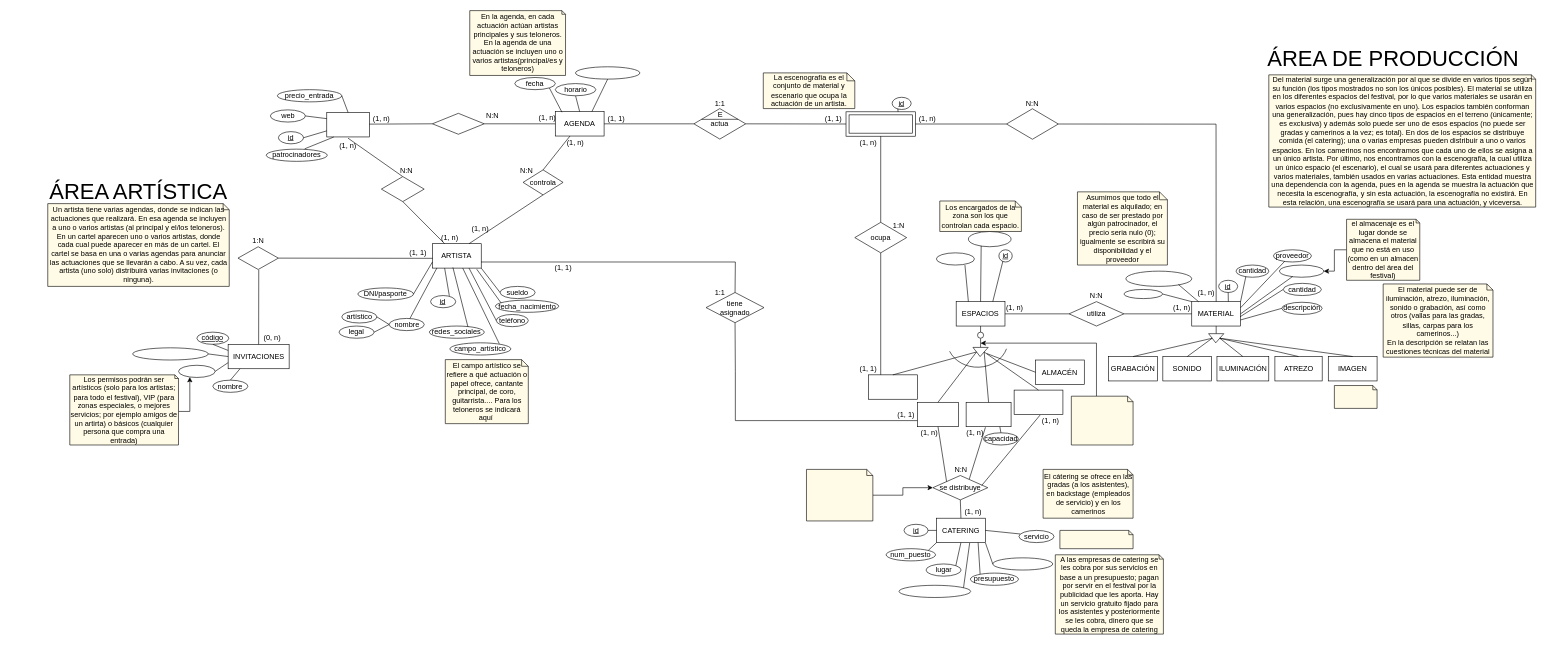
This 1546x645 diagram has some shape labels left out. The centre of each missing label's shape, as x and y in pixels:
almacenaje: point 1301,270
aparece: point 402,189
BACKSTAGE: point 1038,401
basada en: point 458,123
CAMERINO: point 938,414
CARTEL: point 347,124
cód_actuación: point 607,72
distribuye: point 257,257
empresa_encargada: point 934,591
En los camerinos se distribuye el catering para los artistas y empleados: point 839,495
encargado: point 955,258
ESCENARIO: point 892,386
ESCENOGRAFÍA: point 880,123
GRADAS: point 988,414
localización: point 989,239
num_acompañantes: point 170,353
pantallas en las gradas: point 1355,396
permisos: point 196,371
precio/h: point 1143,294
servicio: bebidas, comida o mixto: point 1096,539
servicio_gratuito: point 1022,563
tiempo_disponible: point 1158,278
Un espacio puede ser escenario, camerino, grada o backstage, ningún otro: point 1102,420
usa: point 1032,123
